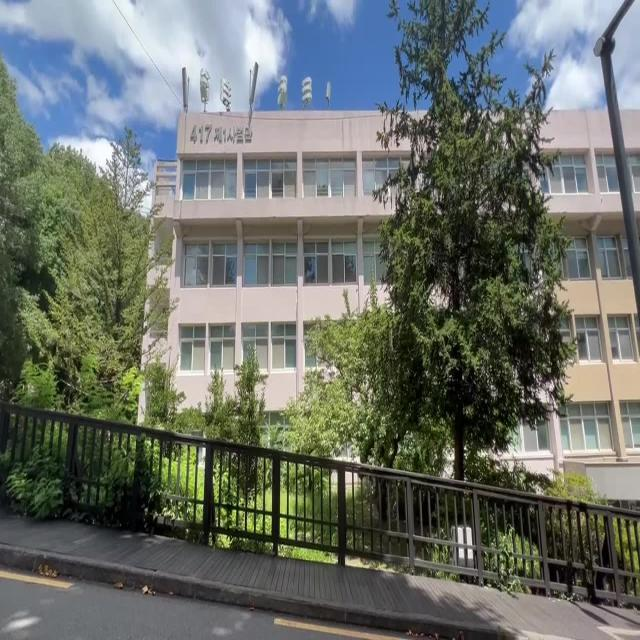building: (158, 81, 362, 379)
